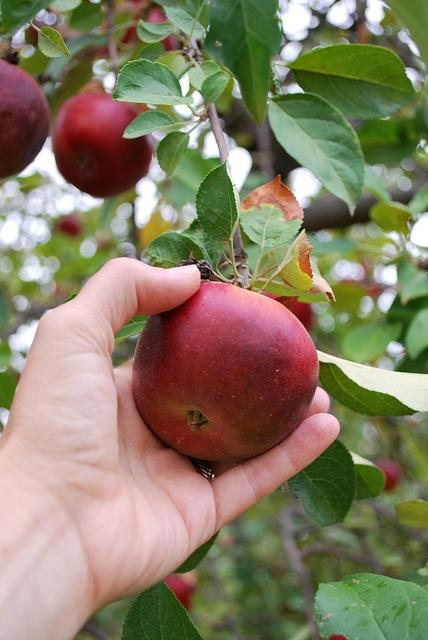apple: (131, 280, 320, 462), (52, 89, 153, 199), (0, 59, 51, 180), (94, 0, 183, 57), (260, 290, 314, 332), (371, 457, 402, 491), (164, 576, 189, 610), (59, 215, 83, 236), (54, 14, 70, 33), (367, 282, 386, 296), (330, 634, 348, 640)
